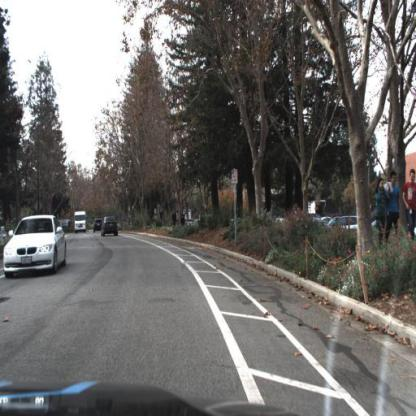car: (5, 215, 69, 277), (101, 216, 120, 239), (92, 221, 103, 232)
pedestrian: (374, 176, 389, 249), (386, 171, 401, 241), (403, 168, 416, 243), (173, 208, 182, 230), (160, 209, 165, 225), (182, 212, 186, 228)
truck: (74, 207, 89, 235), (74, 210, 86, 235), (183, 211, 193, 227)
